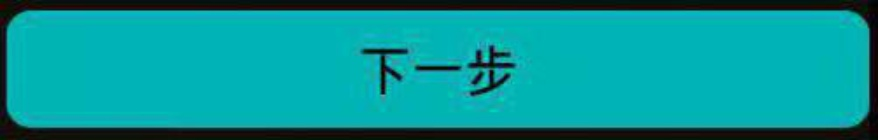Button: (1, 1, 877, 139)
